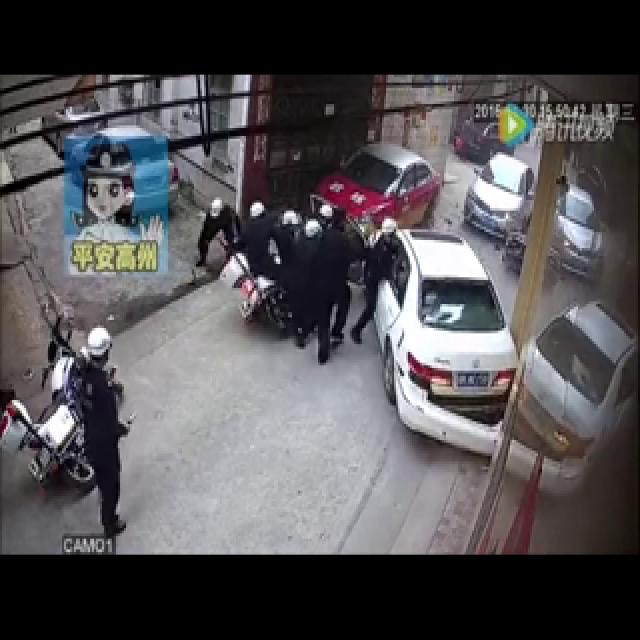arrest: (187, 161, 479, 450)
